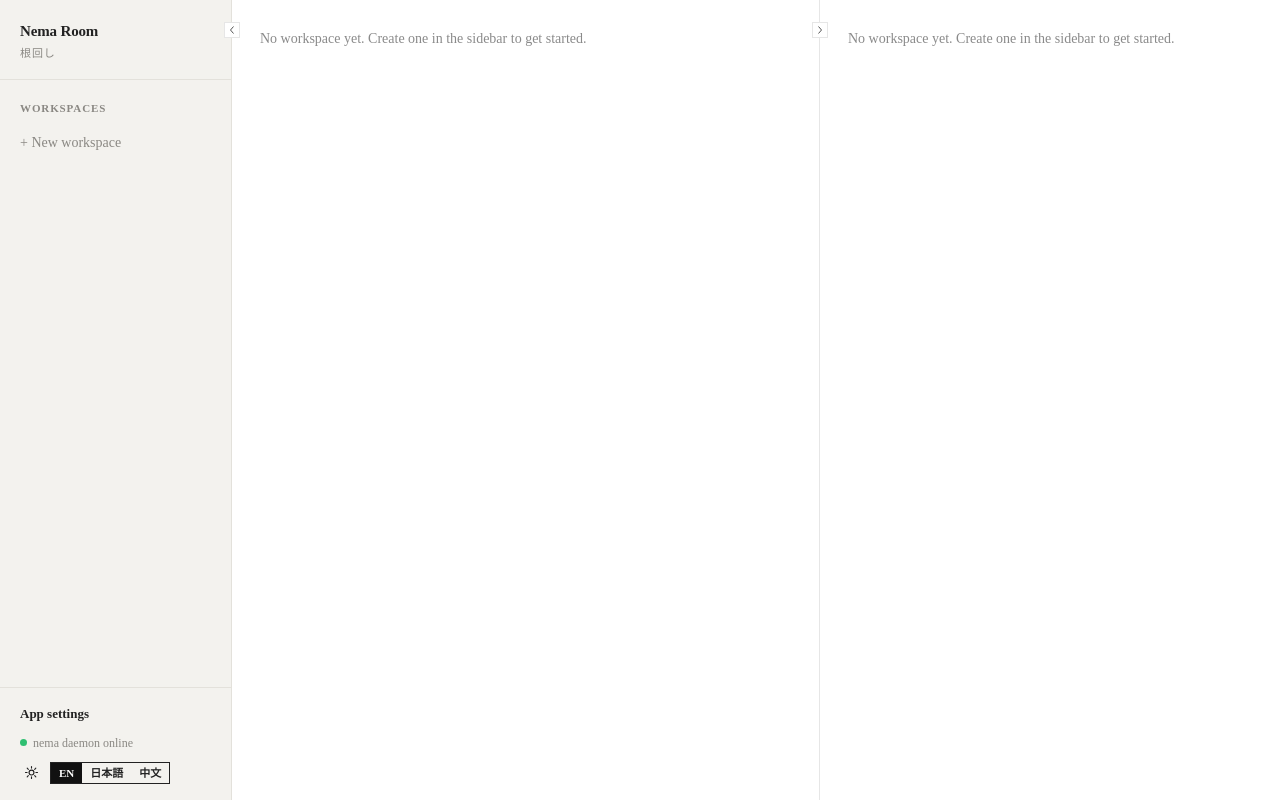
Scenario: WorkspaceShell knowledge wiring › opens model settings across the main area, not the knowledge column
Click the button "App settings" at (116, 714), box [20, 704, 211, 724]
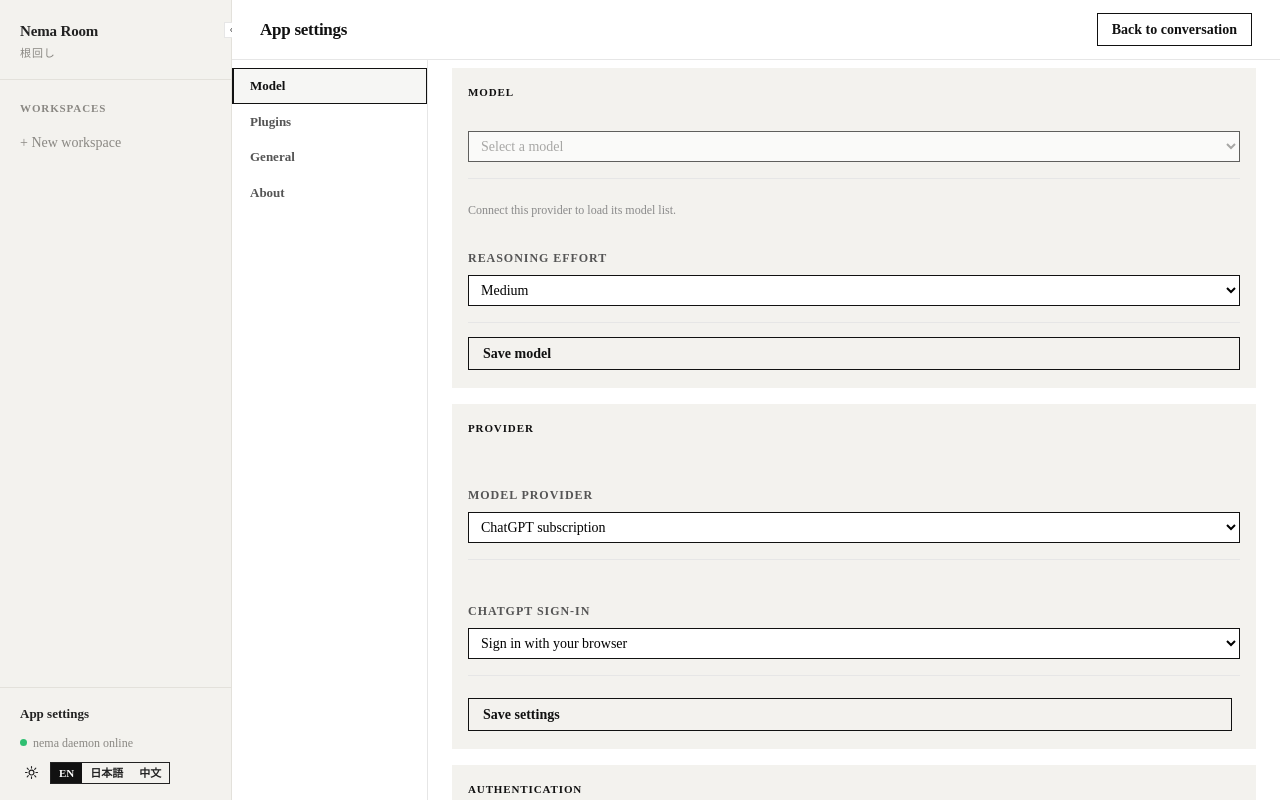
Now the element "Model" is shown
Now the panel "Model" is shown
Now the dropdown labelled "Model provider" shows "ChatGPT subscription", box [468, 512, 1240, 543]
Select "High" in the dropdown labelled "Reasoning effort" at (854, 290), box [468, 274, 1240, 306]
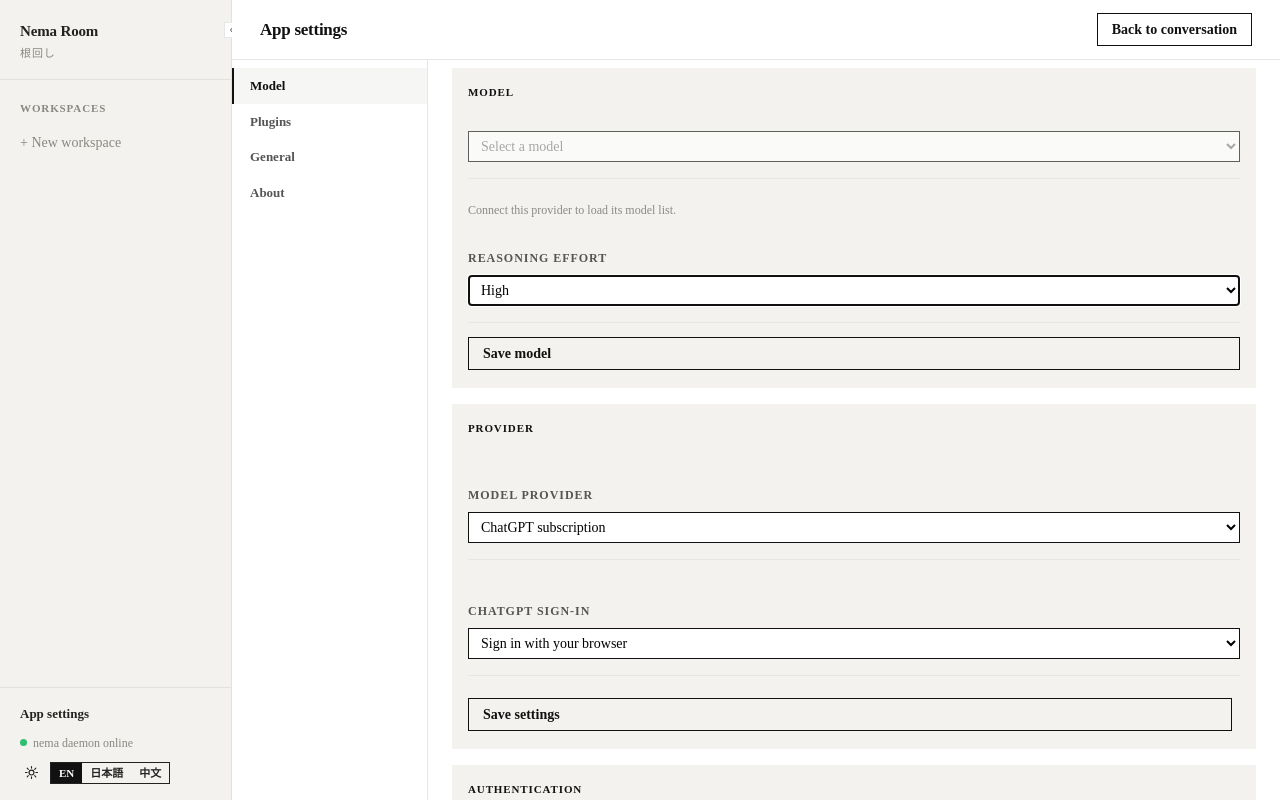
Click the tab "Plugins" at (330, 121), box [232, 104, 427, 139]
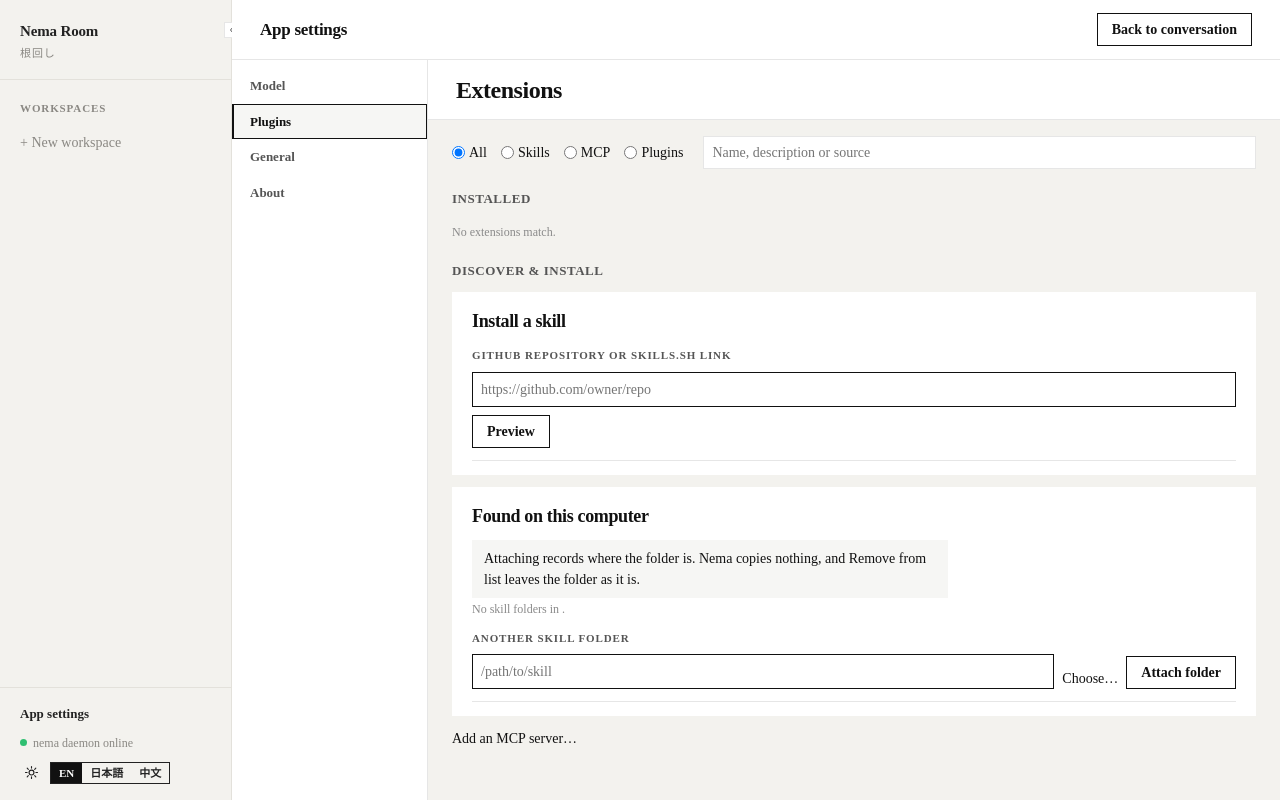
Now the number of panels is 1
Now the text "Reasoning effort" is gone
Click the tab "Model" at (330, 86), box [232, 68, 427, 104]
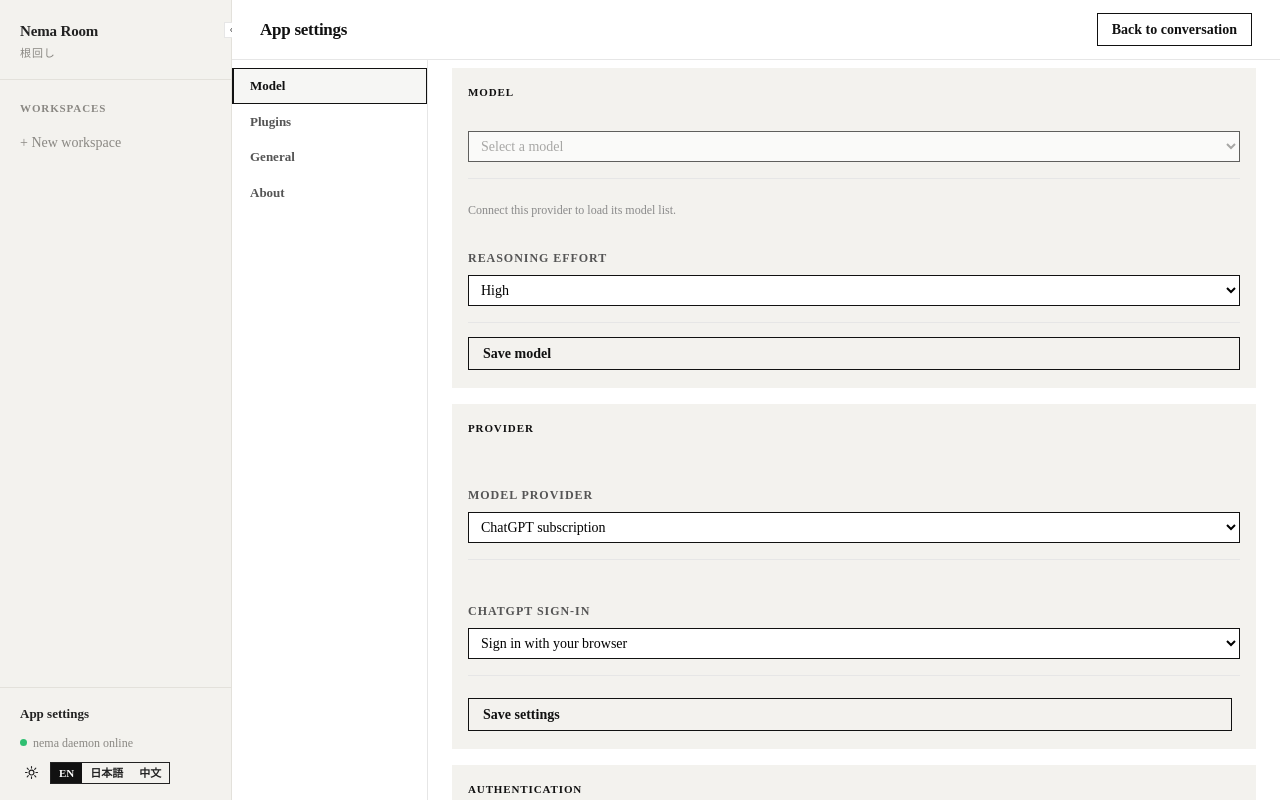
Press Escape
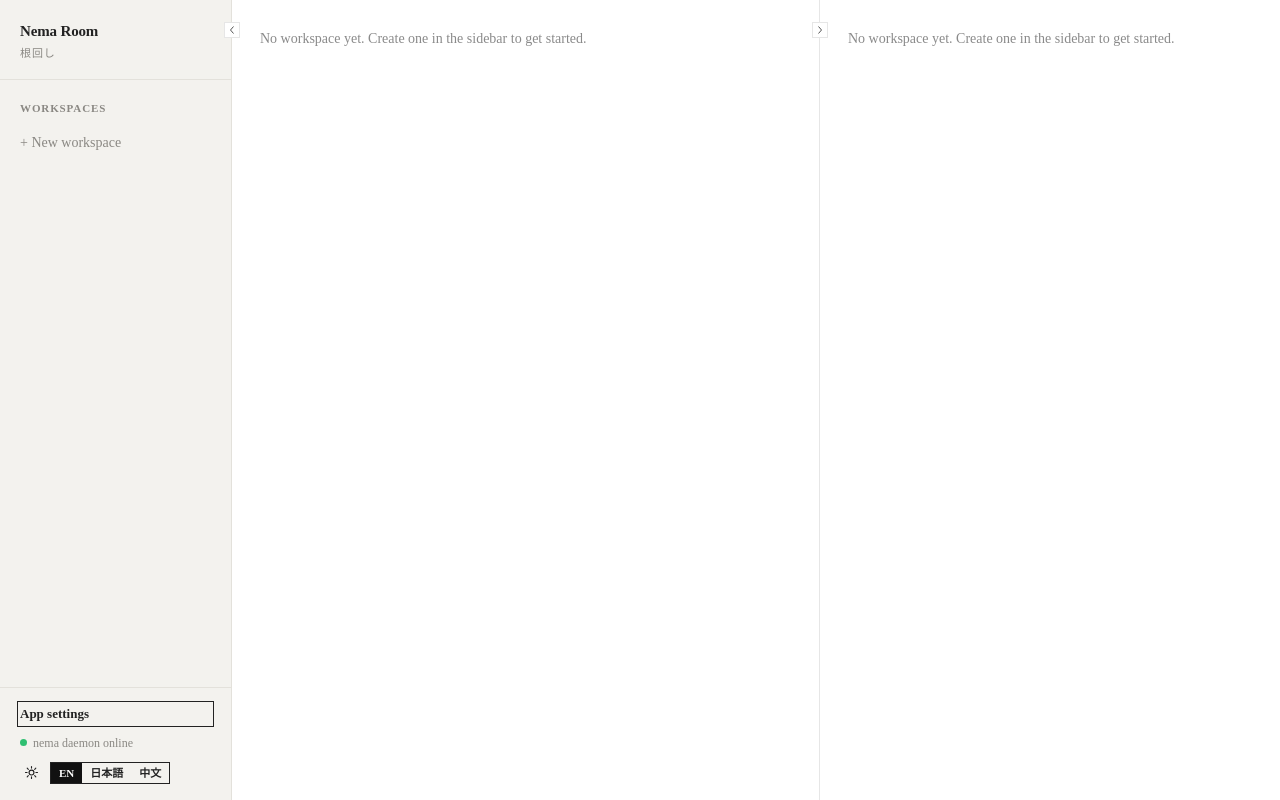
Now the tab "Model" is gone
